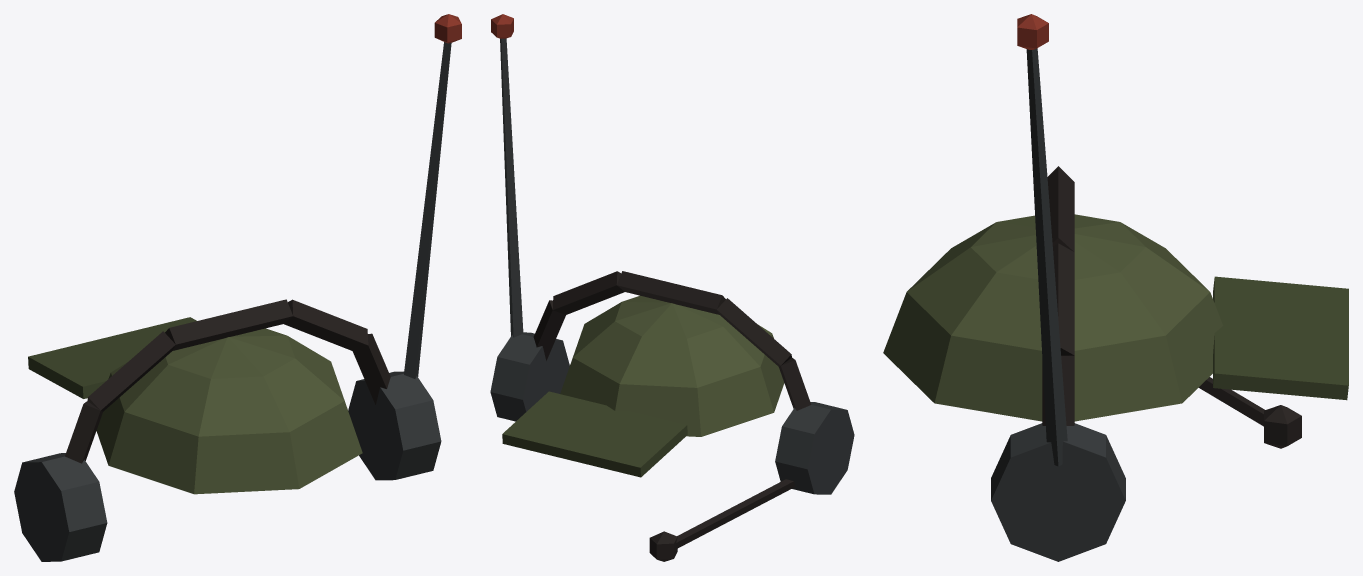
File: hat_radio_operator.glb
The picture shows the model from 3 angles, left to right: view 1: azimuth 30°, elevation 25°; view 2: azimuth 150°, elevation 25°; view 3: azimuth 270°, elevation 25°; orthographic projection. The views are drawn at different scales.
Visible parts, largest first — view 1: Hat; view 2: Hat; view 3: Hat.
Part boxes in pixels (x1,y1,x2,y2): Hat: (14,14,461,561); Hat: (490,14,854,561); Hat: (883,14,1348,561).
Size of the model in its own units: 0.4274 by 0.498 by 0.3453.
